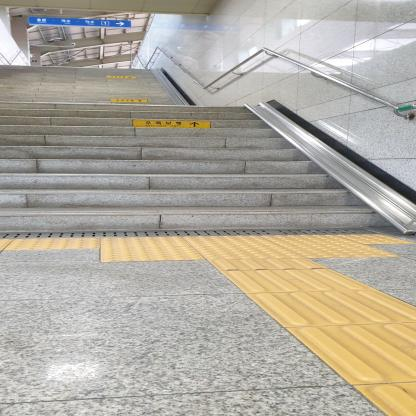go: (244, 290, 416, 328), (219, 268, 379, 293)
stop: (279, 244, 403, 258), (192, 245, 307, 259), (100, 247, 207, 262), (100, 236, 192, 248), (181, 235, 279, 246), (258, 235, 364, 245)
